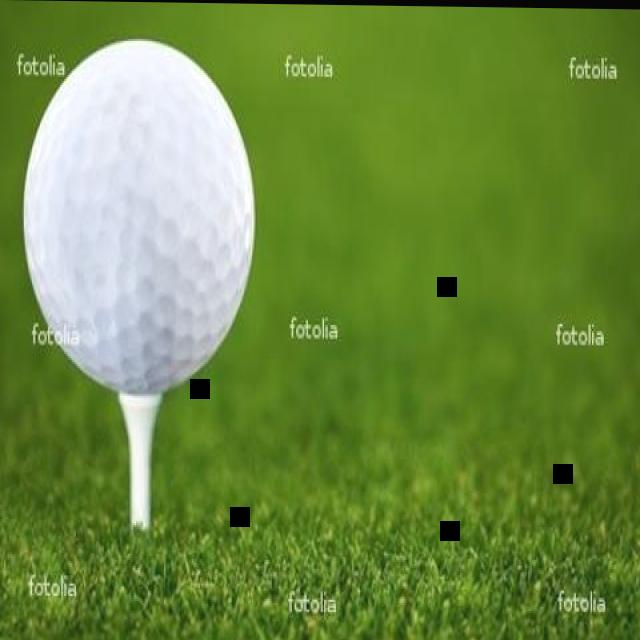golf ball: (12, 39, 260, 401)
